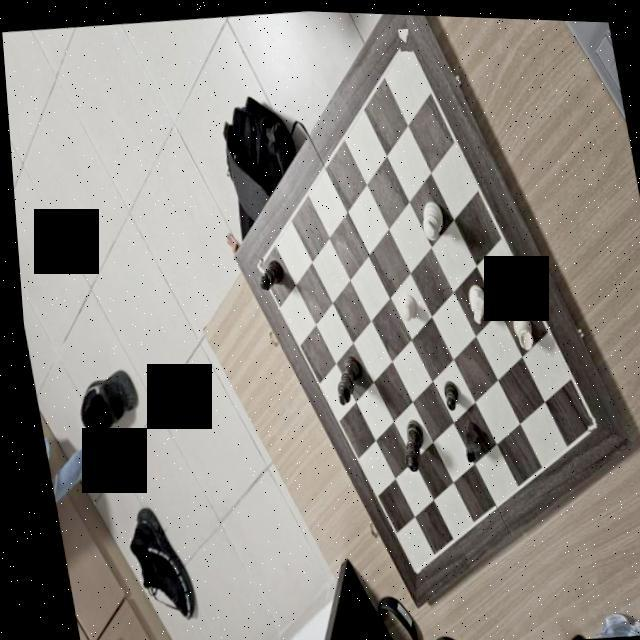chess-table-corners: (397, 24, 412, 48), (578, 412, 595, 430), (247, 255, 260, 274), (400, 561, 412, 576)
